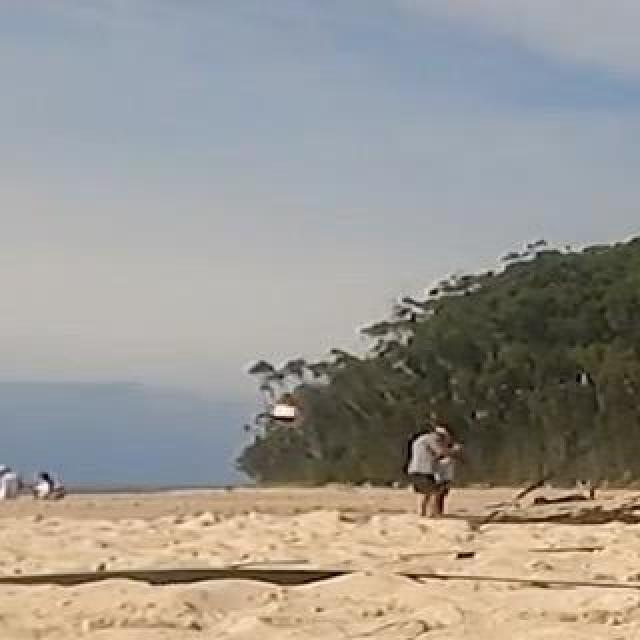volleyball: (272, 402, 298, 428)
